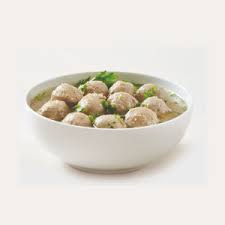bakso: (29, 61, 195, 160)
